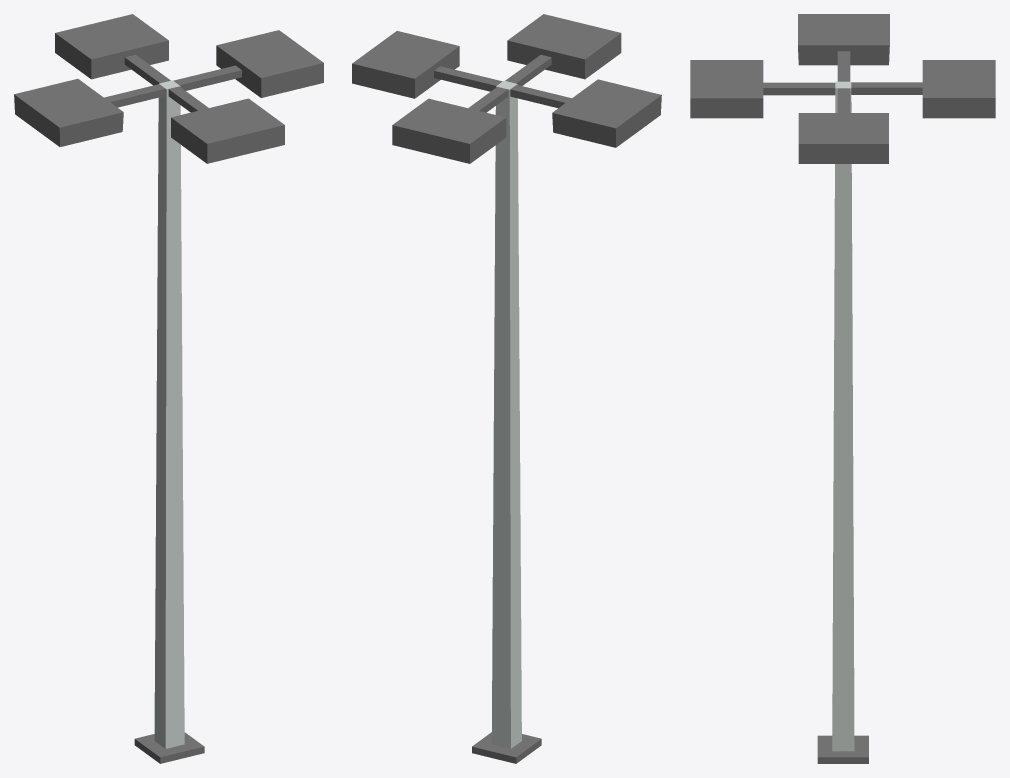
Rendered from SM_Lamp_04.fbx.
The picture shows the model from 3 angles, left to right: view 1: azimuth 30°, elevation 25°; view 2: azimuth 150°, elevation 25°; view 3: azimuth 270°, elevation 25°; orthographic projection.
Visible parts, largest first — view 1: SM_Lamp_04; view 2: SM_Lamp_04; view 3: SM_Lamp_04.
Boxes of the visible parts, left/top/right/bottom form: SM_Lamp_04: left=14, top=14, right=323, bottom=763; SM_Lamp_04: left=352, top=14, right=661, bottom=763; SM_Lamp_04: left=690, top=14, right=995, bottom=763.
Bounding box in the file's own units: 291 × 704 × 289.
